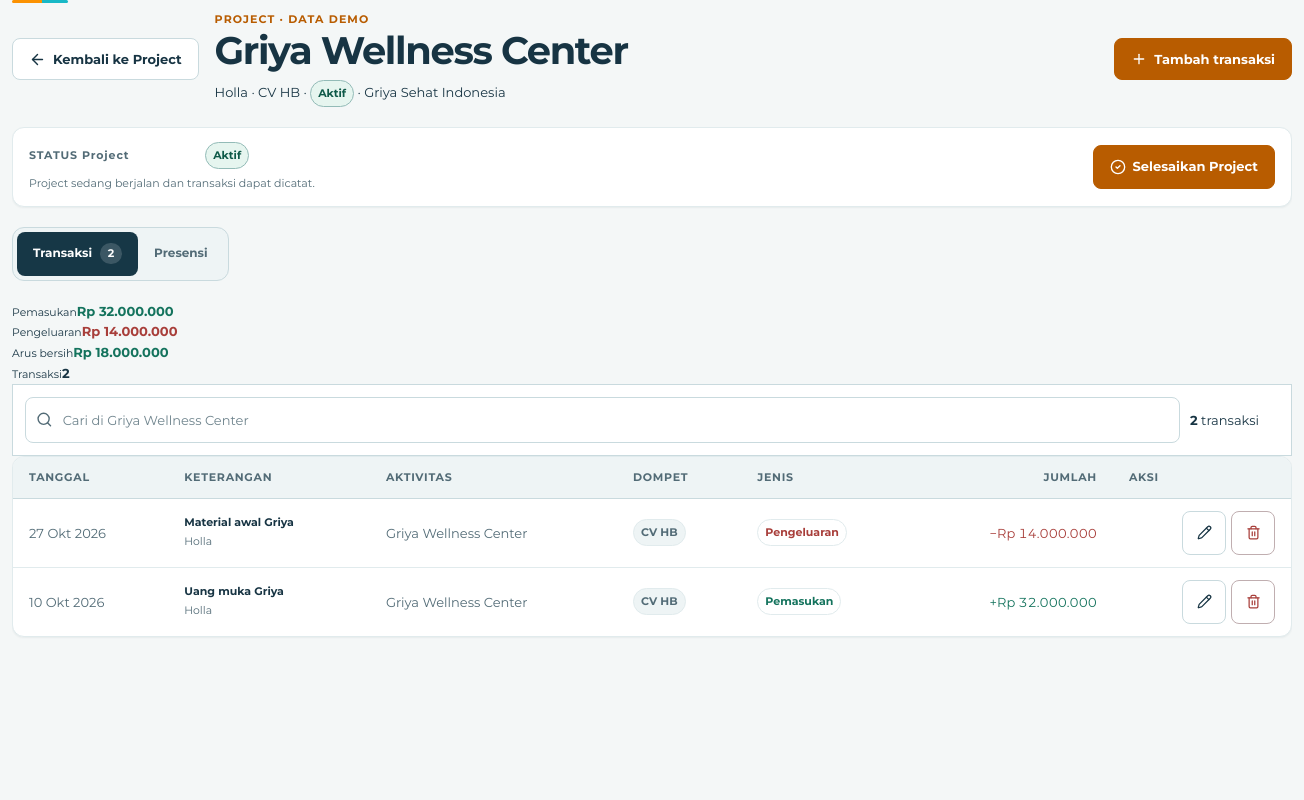
Test case: project presensi detail › keeps the empty-state title and guidance visually separated
Step 1. Click the tab "Presensi" → (181, 254), box [138, 232, 224, 276]
(page scrolled)
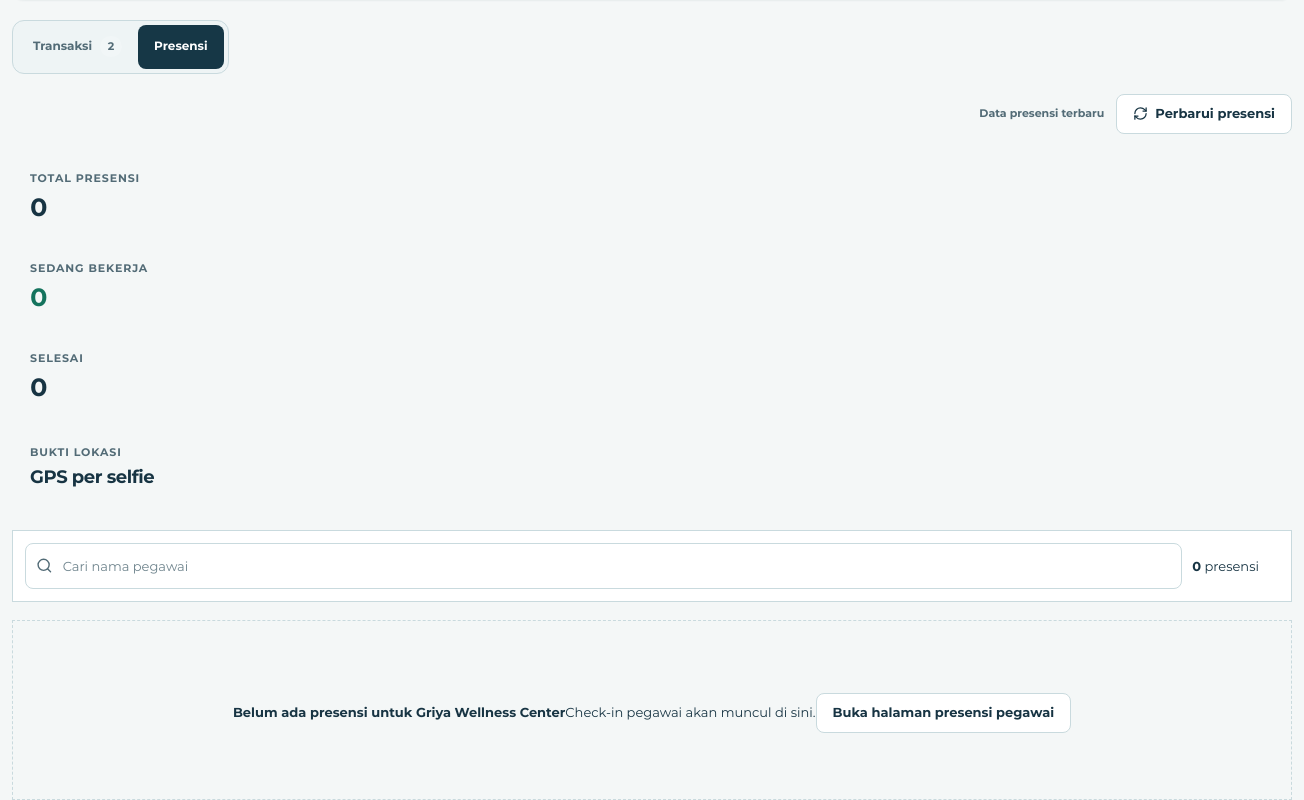
Now the text "Check-in pegawai akan muncul di sini." is shown, box [565, 704, 816, 720]
Now the link "Buka halaman presensi pegawai" is shown, box [816, 693, 1071, 733]
